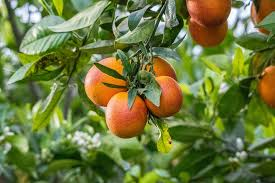orange: (84, 54, 131, 108), (106, 90, 147, 140), (134, 54, 180, 93), (145, 75, 184, 117)
